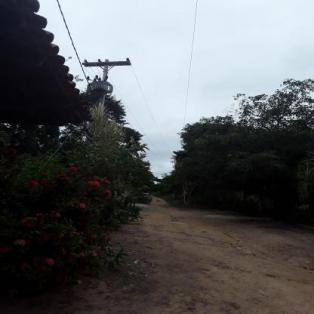Poste: (95, 59, 111, 119)
